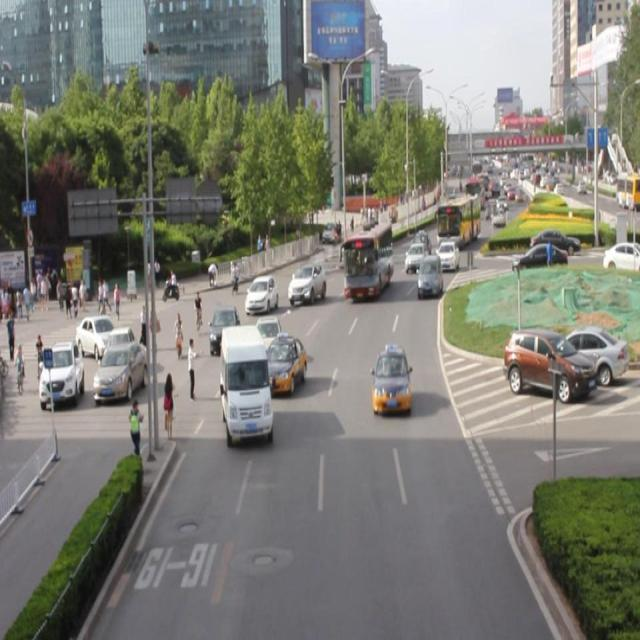car: (263, 335, 307, 393), (372, 348, 409, 416), (288, 263, 325, 305), (210, 306, 240, 354), (255, 314, 282, 366), (245, 275, 278, 314), (417, 254, 442, 297), (404, 243, 428, 271), (436, 241, 458, 270)
truck: (222, 326, 272, 440)
van: (344, 223, 392, 297)
